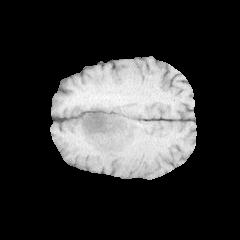glioma: (66, 103, 139, 155)
